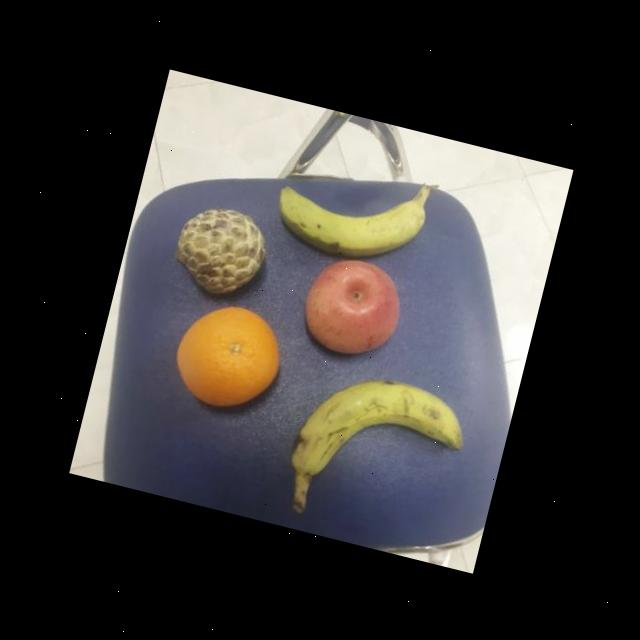Sakya fruit: (166, 198, 274, 300)
apple: (296, 248, 410, 364)
banana: (278, 350, 476, 546), (268, 146, 440, 274)
orange: (167, 294, 290, 416)
